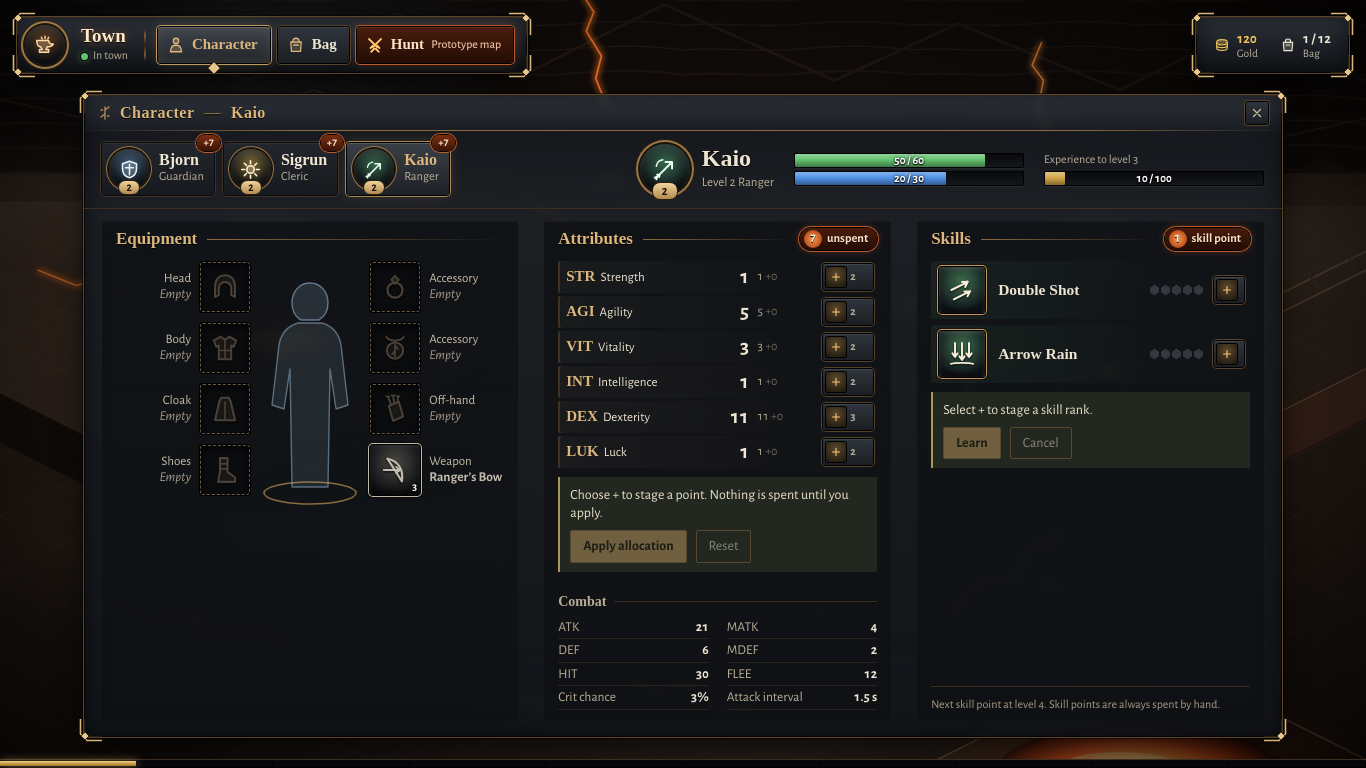
Test: B-16: staged allocation › unspent and pending cost are shown distinctly, with a per-control before/after
Expected: the text "7" is shown, x1=804 y1=230 x2=822 y2=248
Click the button "3": coordinates (848, 417) x1=823 y1=404 x2=873 y2=430
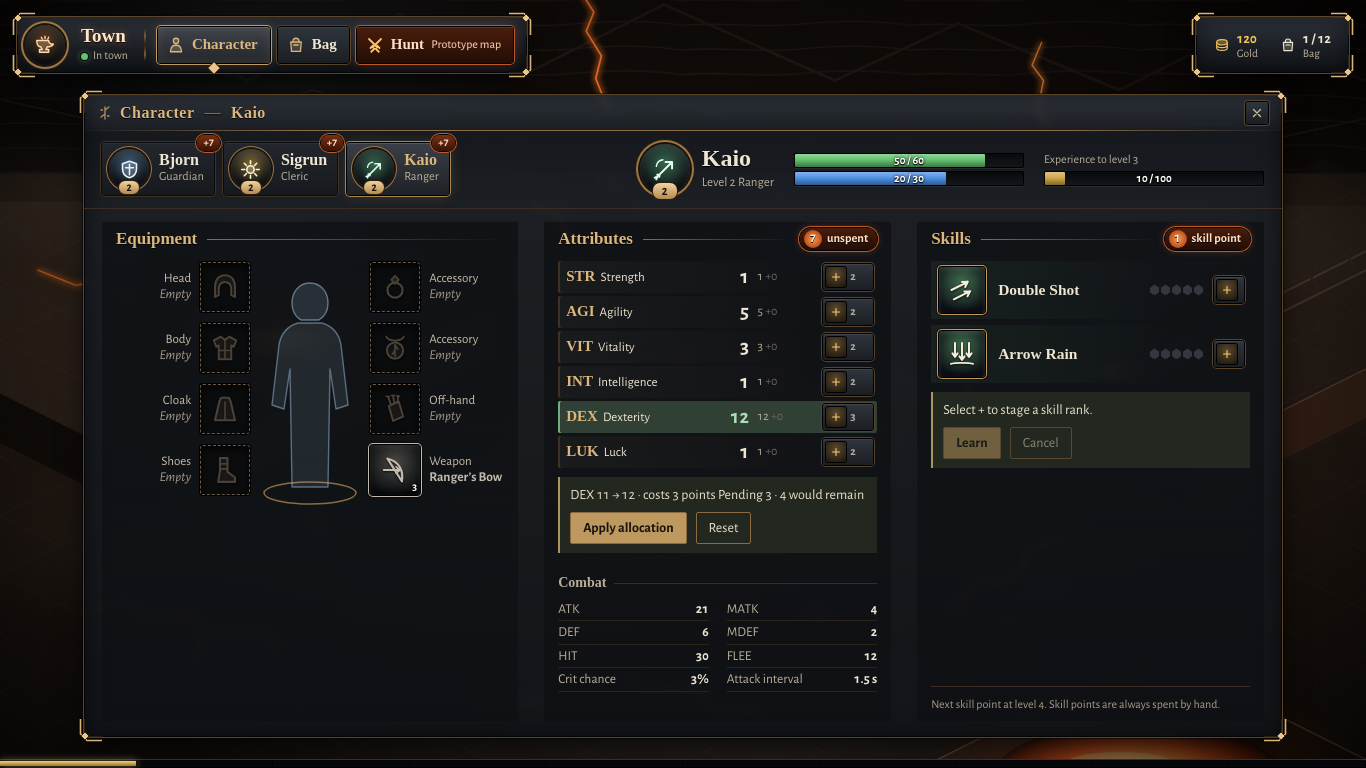
Expected: the text "7" is shown, x1=804 y1=230 x2=822 y2=248
Expected: the text with class "attr-total" next to "Dexterity" reads "12", x1=730 y1=407 x2=749 y2=427
